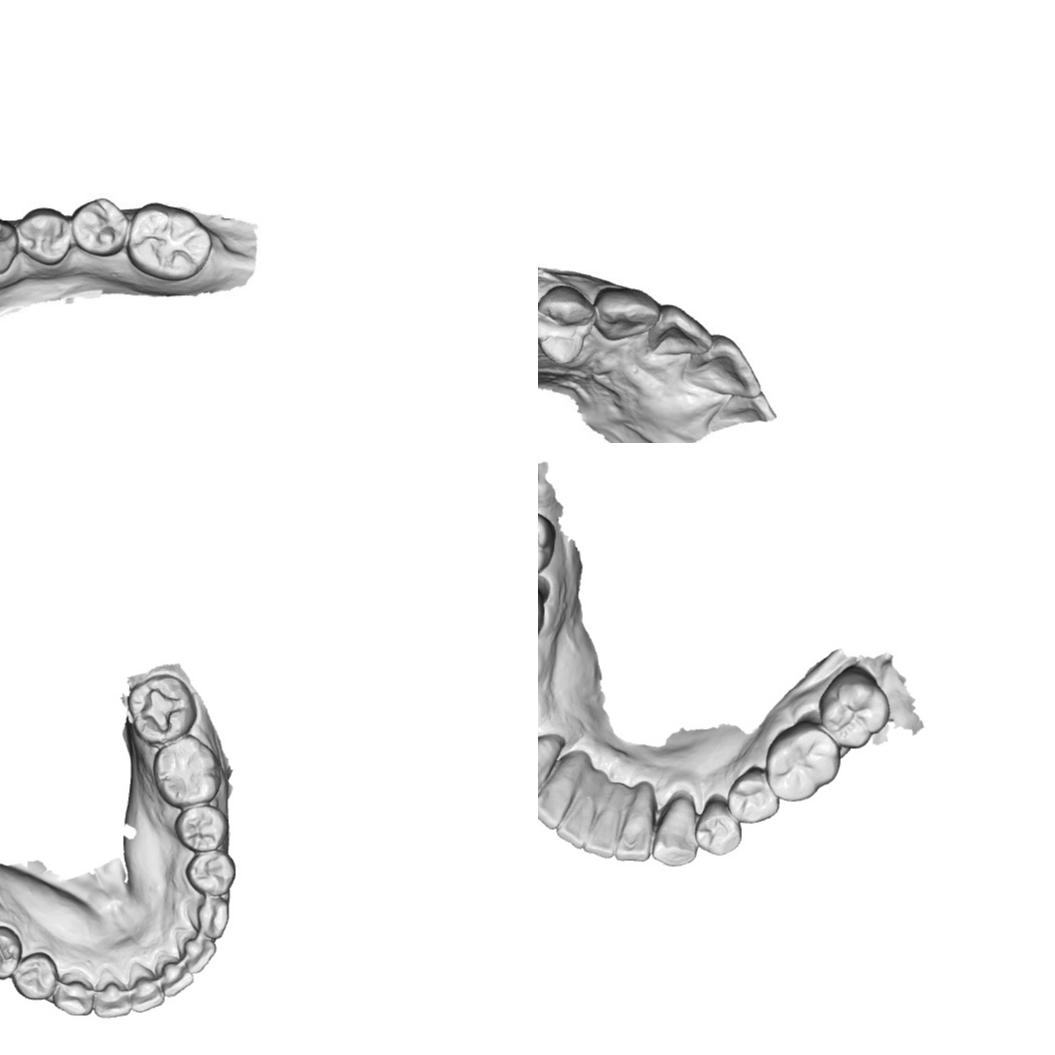canine: (593, 282, 659, 351), (650, 791, 699, 869), (183, 895, 230, 939), (51, 969, 93, 1017), (0, 215, 22, 278), (538, 740, 556, 805)
incisor: (680, 333, 760, 403), (647, 301, 715, 365), (583, 801, 624, 863), (612, 806, 656, 863), (555, 791, 595, 850), (124, 960, 165, 1014), (172, 926, 217, 975), (153, 950, 196, 997), (93, 966, 131, 1019), (538, 767, 566, 832)
inlay: (136, 687, 188, 735)
molar: (129, 199, 211, 279), (816, 667, 892, 751), (763, 722, 841, 803), (151, 736, 221, 808), (538, 503, 556, 580)
premolar: (538, 280, 598, 367), (692, 792, 743, 857), (726, 764, 780, 825), (75, 197, 128, 256), (20, 208, 74, 265), (173, 804, 228, 851), (11, 949, 60, 1001), (183, 850, 237, 896), (0, 924, 22, 981)
